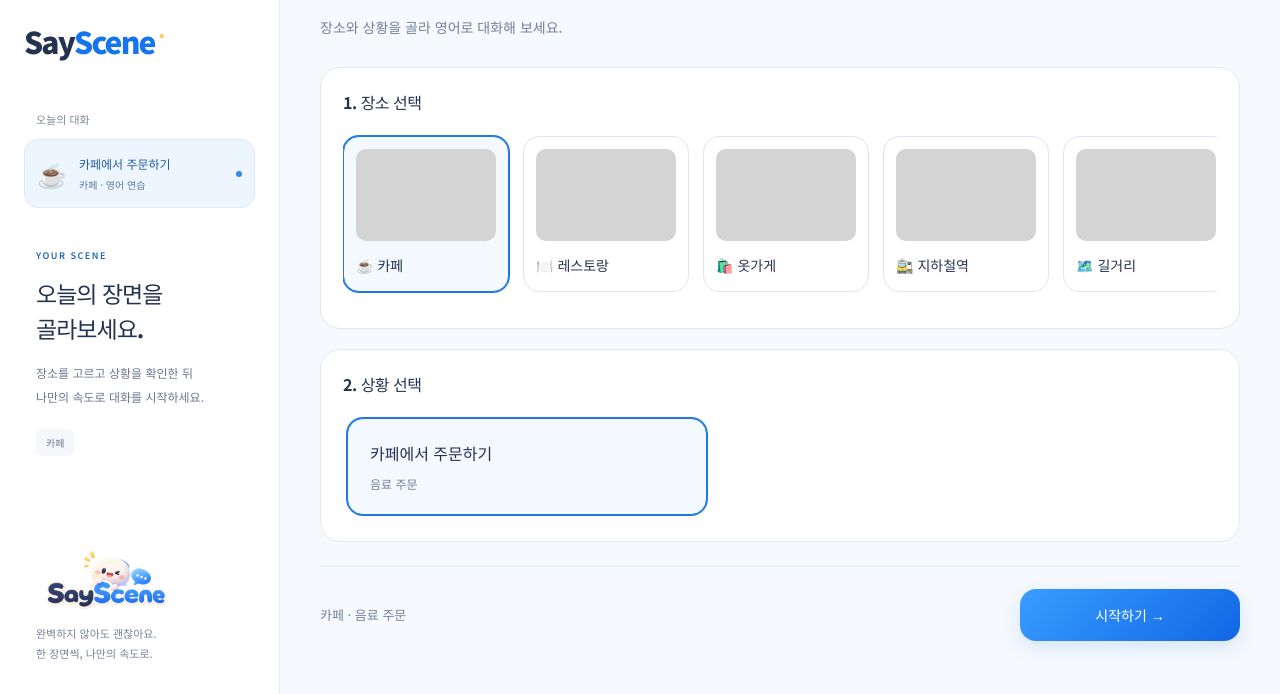
Test: 대화 종료 스냅샷으로 한 번 생성하고 자동 저장하지 않는다
The width and height of the screenshot is (1280, 694).
(page scrolled)
Click the button "시작하기 →" at [1130, 615], box [1020, 589, 1240, 641]
(page scrolled)
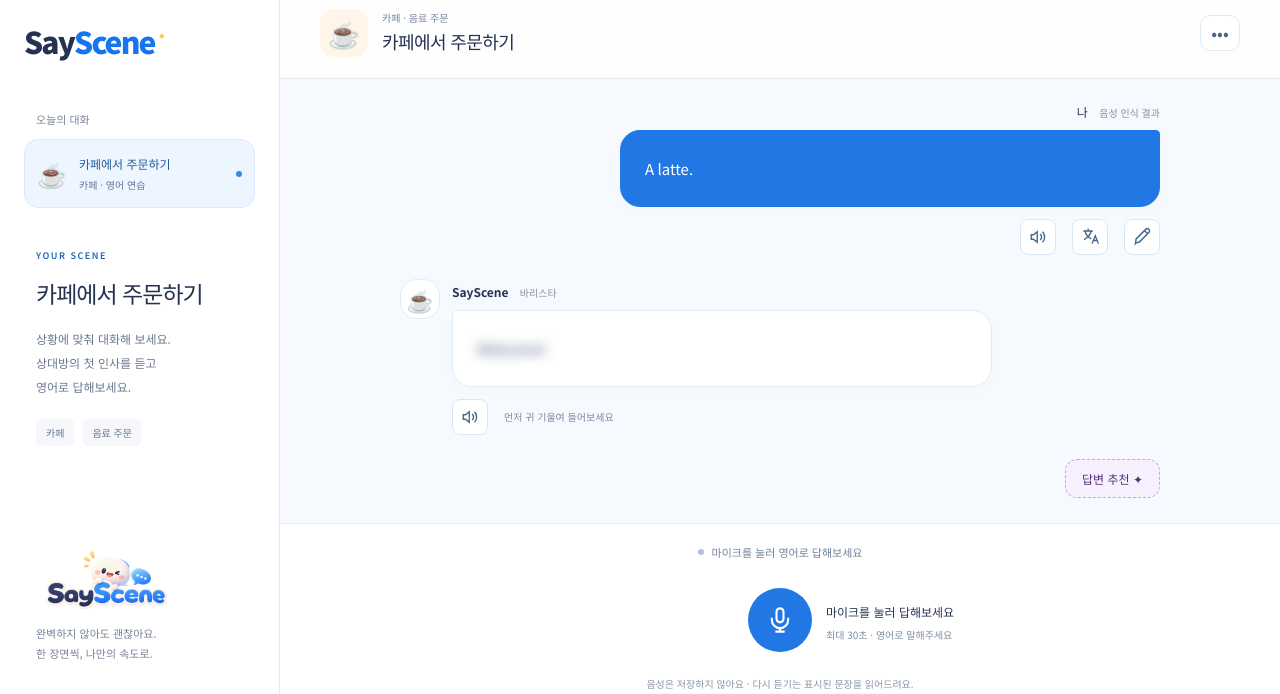
Click the button named "대화 메뉴" at [1220, 32], box [1200, 14, 1240, 50]
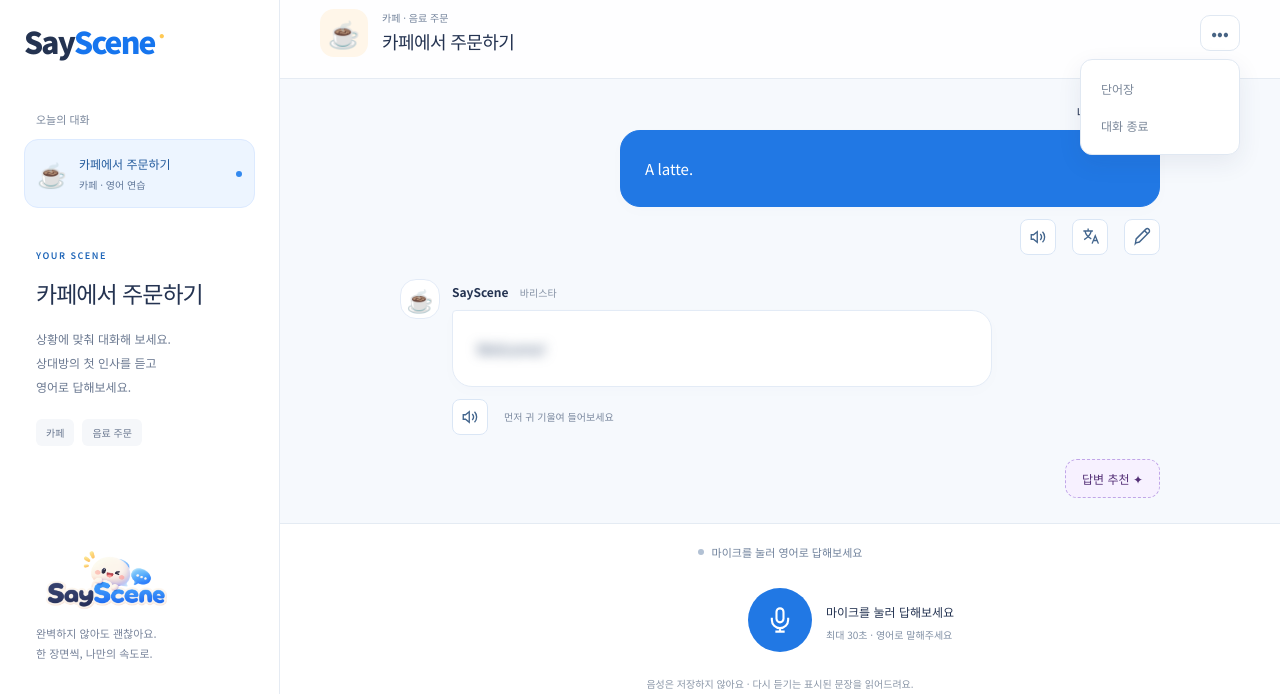
Click the button "대화 종료" at [1160, 125], box [1091, 106, 1229, 144]
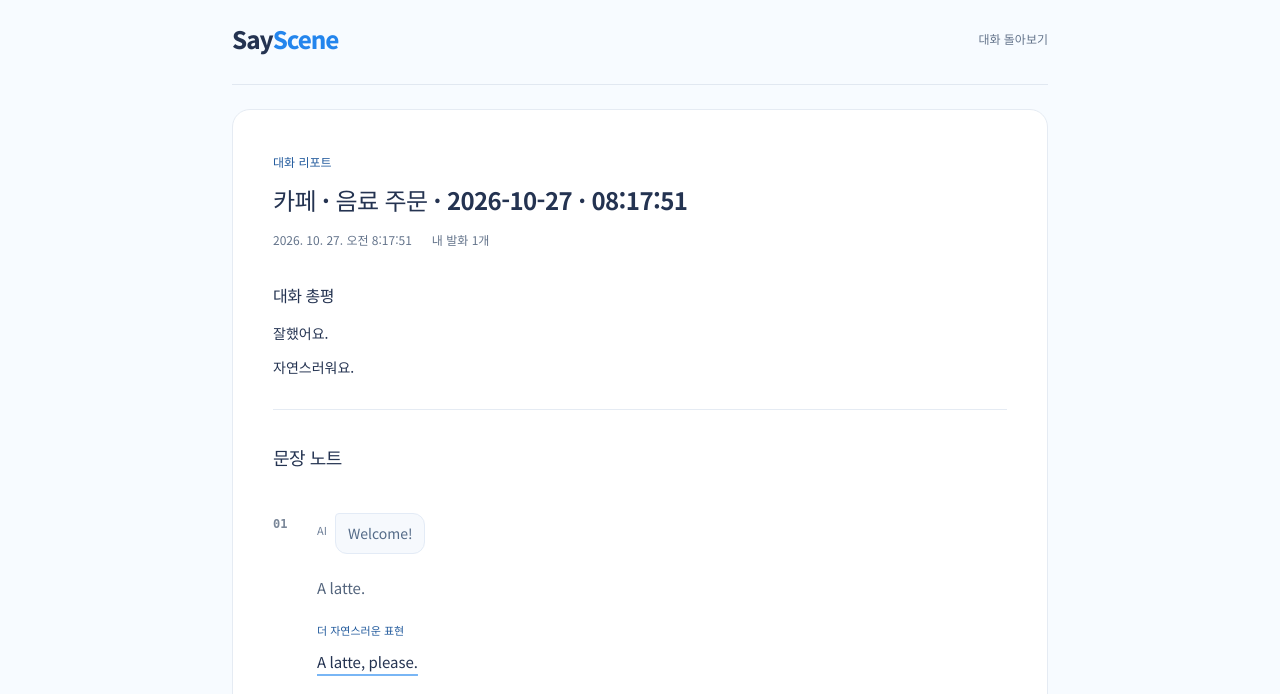
Expected: the heading "대화 총평" is shown, [273, 283, 334, 307]
